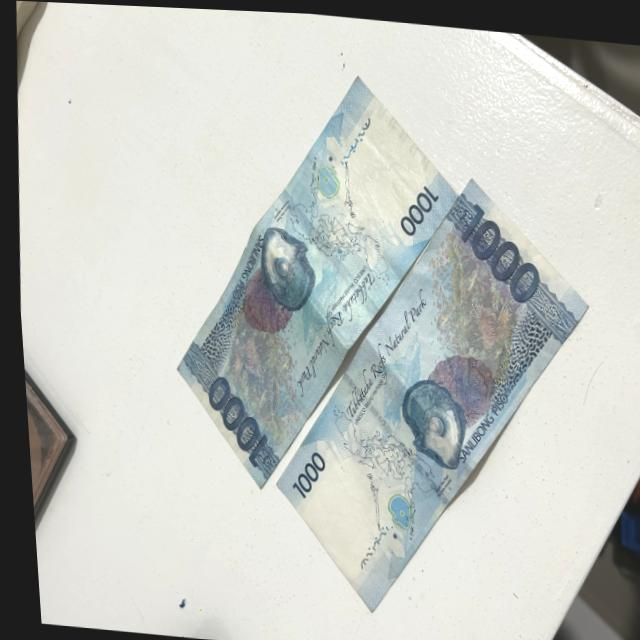1000_pearl: (252, 225, 313, 305), (391, 381, 461, 450)
1000_pearl_watermark: (379, 488, 408, 526), (312, 161, 340, 195)
